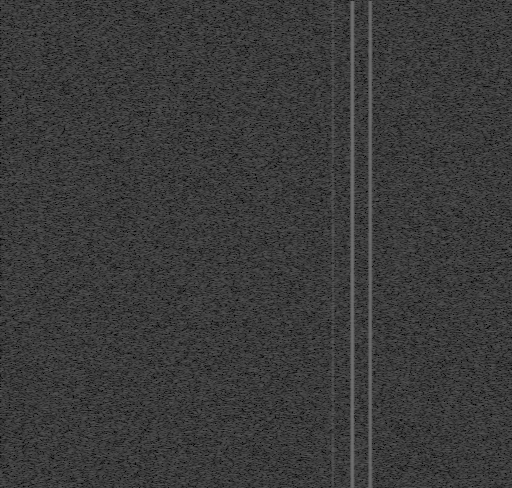wv_cw: (338, 1, 366, 488), (360, 1, 381, 488), (330, 1, 336, 488)
